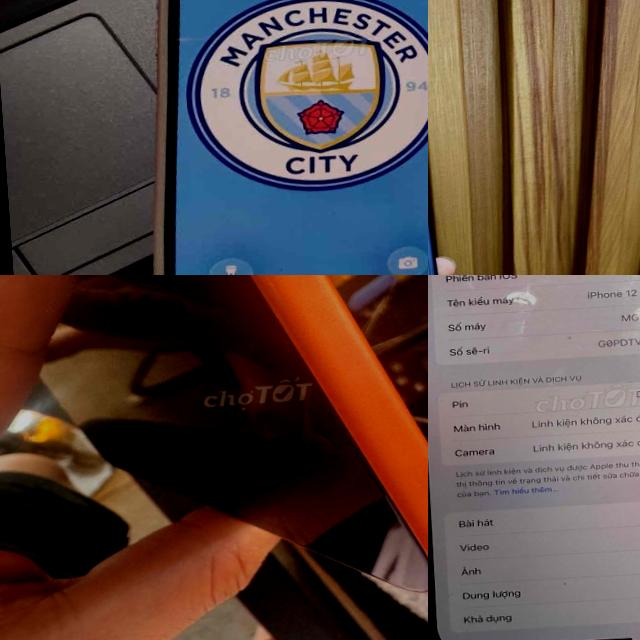gen_12_13: (428, 275, 640, 640)
gen_15: (129, 0, 428, 275)
gen_17: (51, 275, 428, 592)
